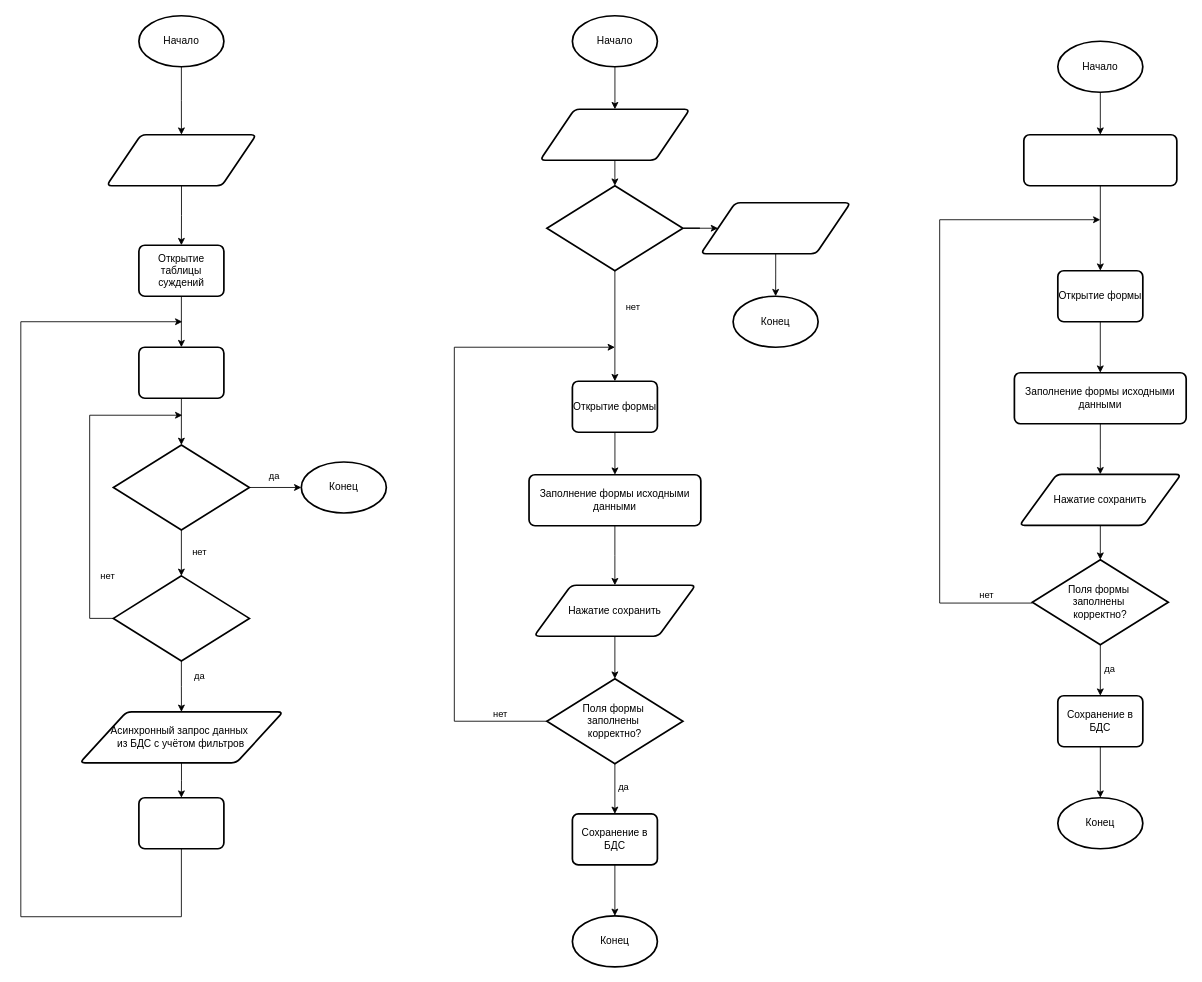
This 1202x982 diagram has some shape labels left out. Each missing label, with the centre of its shape:
"Задание пустых исходных данных для формы" goes at point 1100,159.
"Запрос данных из БДС с учётом фильтров" goes at point 181,159.
"Используемые суждения нельзя редактировать" goes at point 775,227.
"Исходные данные редактируемой строки из БДС" goes at point 614,134.
"Отображение полученных данных" goes at point 181,372.
"Пользователь нажал закрыть?" goes at point 181,487.
"Прошло 5 минут?" goes at point 181,618.
"Сброс таймера" goes at point 181,822.
"Суждение используется?" goes at point 614,227.
